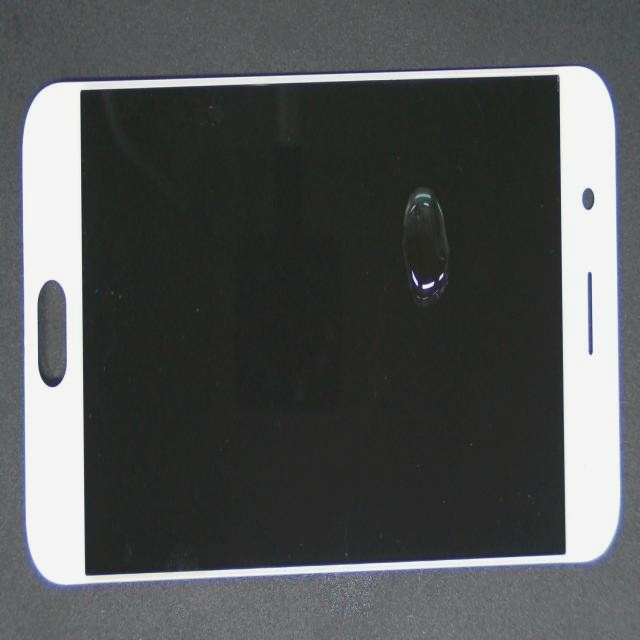oil: (232, 176, 640, 373)
